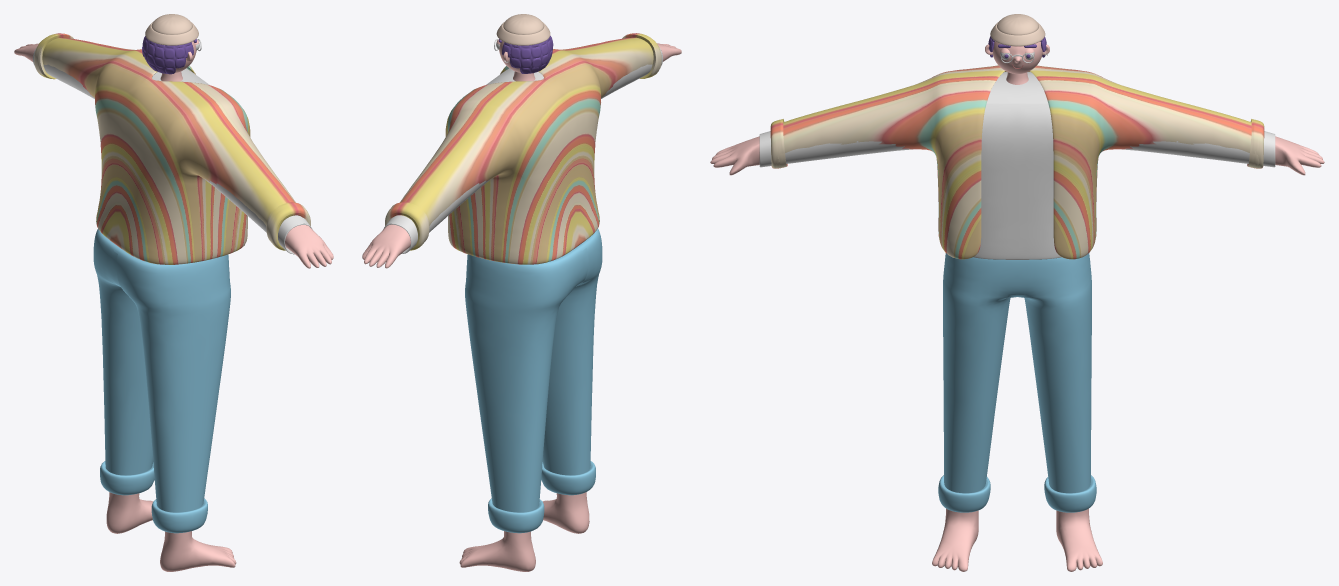
File: personnage-processed.glb
The picture shows the model from 3 angles, left to right: view 1: azimuth 30°, elevation 25°; view 2: azimuth 150°, elevation 25°; view 3: azimuth 270°, elevation 25°; orthographic projection. The views are drawn at different scales.
Visible parts, largest first — view 1: veste, PANTALON, CORPS, pull, bonnet, TooBig1, CHEUVEUX; view 2: veste, PANTALON, CORPS, pull, bonnet, TooBig1, CHEUVEUX; view 3: veste, PANTALON, pull, CORPS, bonnet, VISAGE.
Part boxes in pixels (left/top/right/bottom): veste: left=34, top=33, right=310, bottom=264; PANTALON: left=93, top=228, right=230, bottom=533; CORPS: left=14, top=43, right=333, bottom=571; pull: left=33, top=47, right=312, bottom=254; bonnet: left=145, top=14, right=198, bottom=45; TooBig1: left=142, top=36, right=193, bottom=74; CHEUVEUX: left=142, top=39, right=192, bottom=73; veste: left=385, top=33, right=661, bottom=264; PANTALON: left=465, top=228, right=602, bottom=533; CORPS: left=362, top=43, right=681, bottom=571; pull: left=383, top=47, right=663, bottom=253; bonnet: left=496, top=14, right=550, bottom=45; TooBig1: left=502, top=36, right=553, bottom=73; CHEUVEUX: left=503, top=38, right=553, bottom=73; veste: left=770, top=65, right=1264, bottom=259; PANTALON: left=938, top=253, right=1096, bottom=512; pull: left=759, top=72, right=1275, bottom=259; CORPS: left=710, top=136, right=1324, bottom=571; bonnet: left=990, top=14, right=1045, bottom=46; VISAGE: left=992, top=41, right=1042, bottom=73.
Size of what is drawn, in the model's own units: 155 by 717 by 739.
9 materials, 1 textured.
